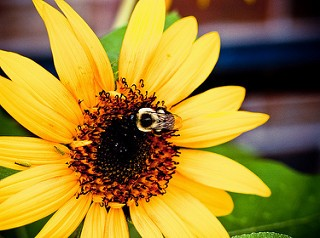flower: (0, 1, 276, 238)
